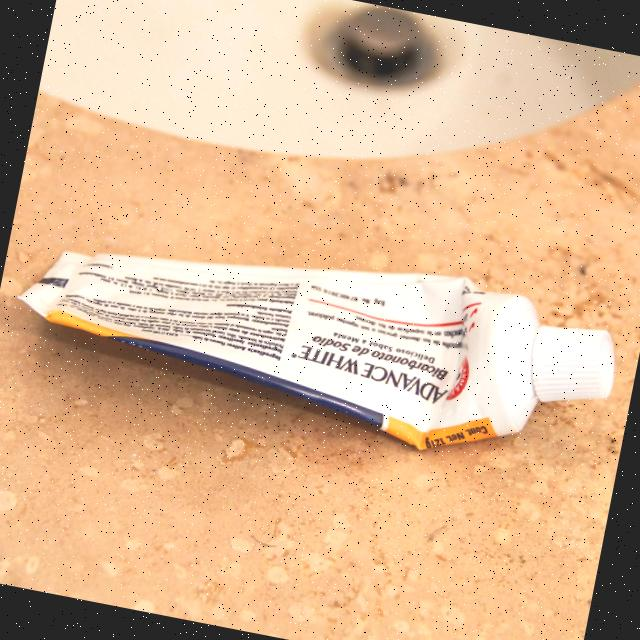Toothpaste: (7, 196, 630, 484)
